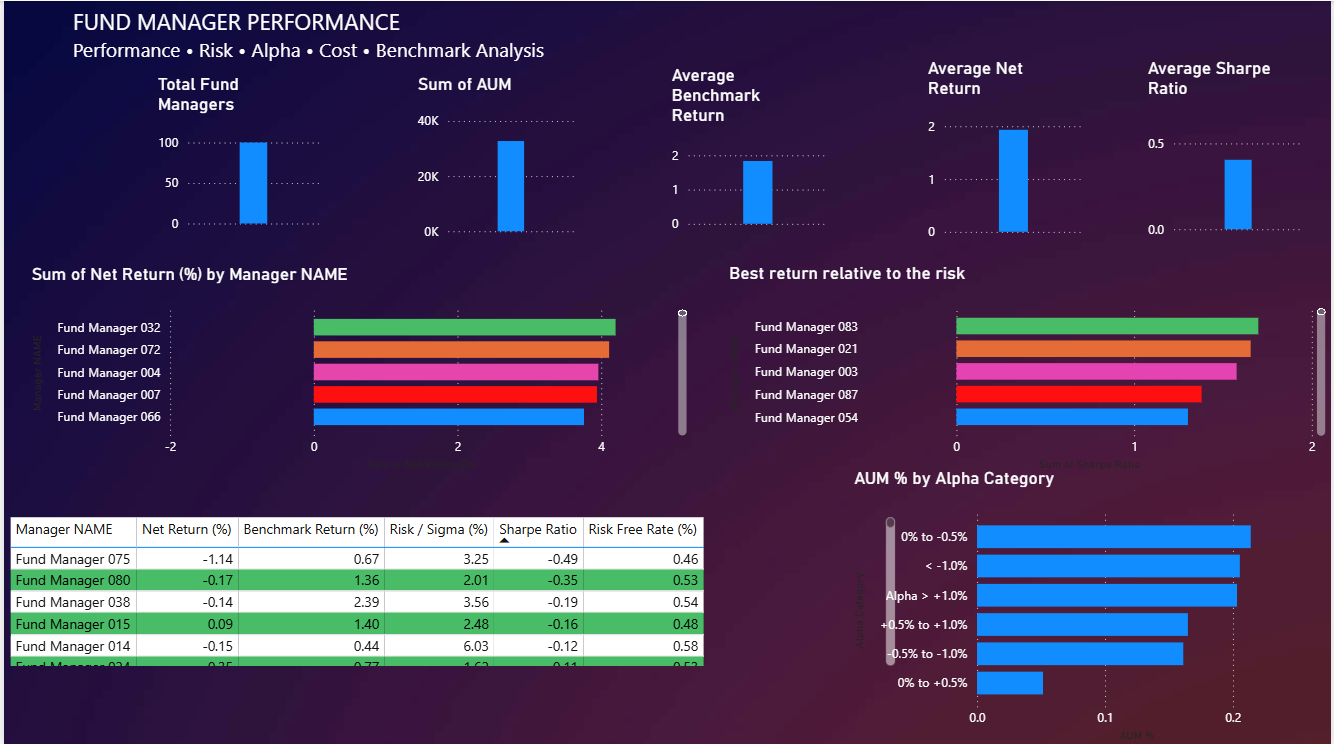

The dashboard page shown, as its layout file describes it:
{"tool":"powerbi","page":{"name":"Fund Manager Performance","canvas":[1280,720],"ordinal":0},"visuals":[{"type":"clusteredColumnChart","fields":{"Y":["Fund Manager Data.Total Fund Managers"]},"box":[143.8,70,166.2,158.8],"z":0},{"type":"clusteredColumnChart","fields":{"Y":["Fund Manager Data.Average Net Return"]},"box":[886.2,53.8,160,182.5],"z":1000},{"type":"clusteredColumnChart","fields":{"Y":["Fund Manager Data.Average Sharpe Ratio"]},"box":[1098.8,53.8,160,180],"z":2000},{"type":"clusteredColumnChart","fields":{"Y":["Fund Manager Data.Average Benchmark Return"]},"box":[640,61.2,161.2,167.5],"z":3000},{"type":"clusteredBarChart","fields":{"Category":["Fund Manager Data.Manager NAME"],"Y":["Sum(Fund Manager Data.Net Return (%))"]},"box":[21.2,253.8,642.2,204.7],"z":4000},{"type":"barChart","title":"Best return relative to the risk","fields":{"Category":["Fund Manager Data.Manager NAME"],"Y":["Sum(Fund Manager Data.Sharpe Ratio)"]},"box":[695,252.2,585.5,206.2],"z":7000},{"type":"tableEx","fields":{"Values":["Fund Manager Data.Manager NAME","Fund Manager Data.Net Return (%)","Fund Manager Data.Benchmark Return (%)","Fund Manager Data.Risk / Sigma (%)","Fund Manager Data.Sharpe Ratio","Fund Manager Data.Risk Free Rate (%)"]},"box":[0,493.4,865,153.3],"z":8000},{"type":"textbox","box":[61.2,0,555,77.5],"z":9000},{"type":"clusteredBarChart","fields":{"Category":["AUM.Alpha Category"],"Y":["AUM.AUM %"]},"box":[815.7,450,445.5,270],"z":10000},{"type":"clusteredColumnChart","fields":{"Y":["Sum(AUM.AUM)"]},"box":[395,70,161.2,166.2],"z":11000}]}

Visuals, with their boxes in screenshot pixels (x1, y1, x2, y2), scaled from the page's 1280x720 canvas onto the 1334x744 screenshot:
clusteredColumnChart - Fund Manager Data.Total Fund Managers: 150,72,323,236
clusteredColumnChart - Fund Manager Data.Average Net Return: 924,56,1090,244
clusteredColumnChart - Fund Manager Data.Average Sharpe Ratio: 1145,56,1312,242
clusteredColumnChart - Fund Manager Data.Average Benchmark Return: 667,63,835,236
clusteredBarChart - Fund Manager Data.Manager NAME x Sum(Fund Manager Data.Net Return (%)): 22,262,691,474
"Best return relative to the risk" barChart: 724,261,1333,474
tableEx - Fund Manager Data.Manager NAME x Fund Manager Data.Net Return (%): 0,510,901,668
textbox: 64,0,642,80
clusteredBarChart - AUM.Alpha Category x AUM.AUM %: 850,465,1314,743
clusteredColumnChart - Sum(AUM.AUM): 412,72,580,244
